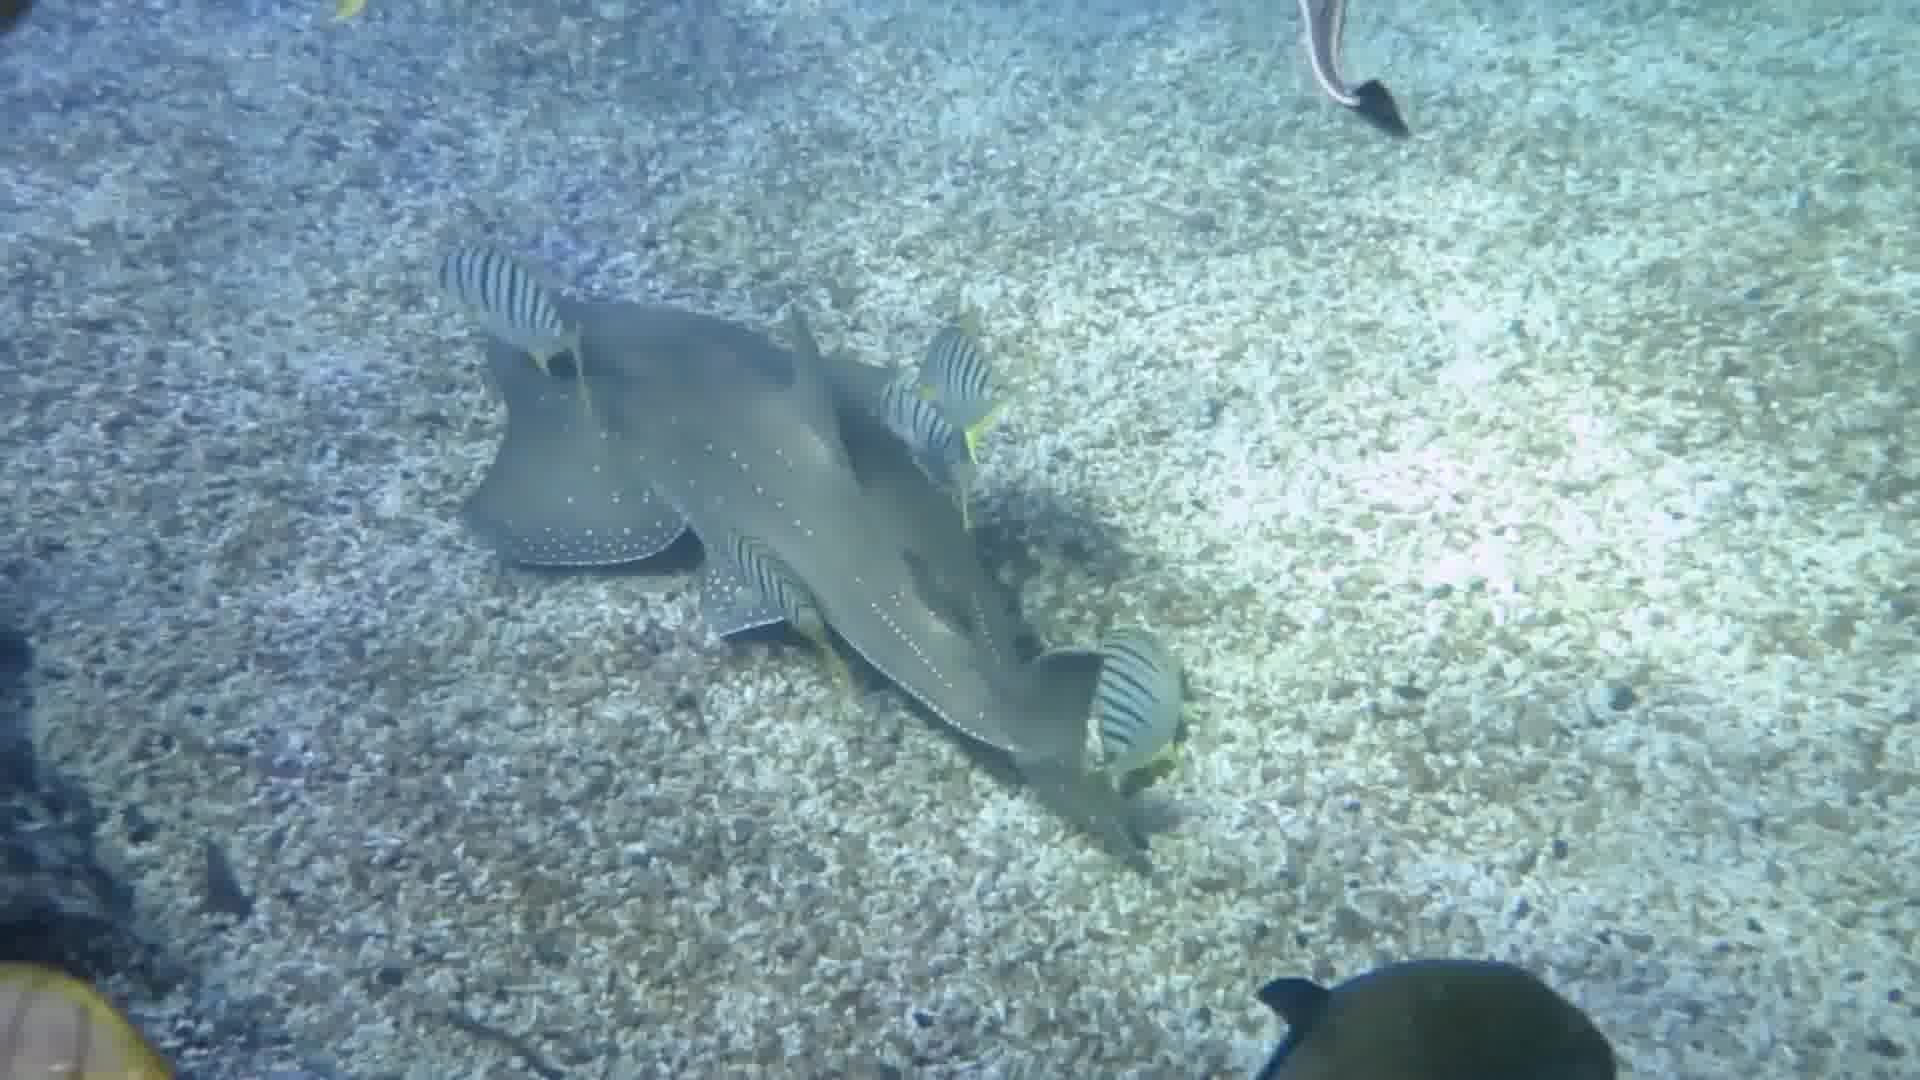Rhychobatus djiddensis: (294, 233, 1327, 796)
